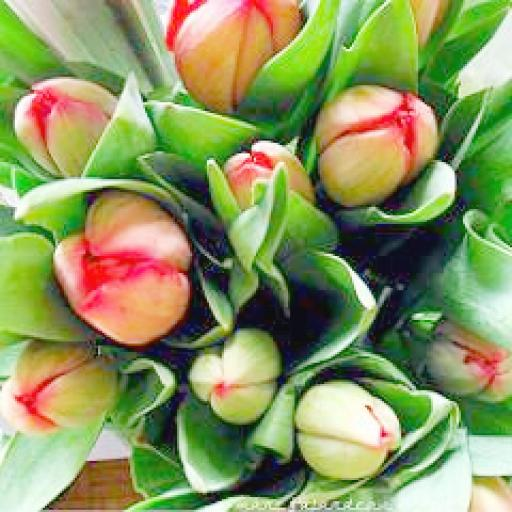tulip: (53, 194, 192, 341), (312, 85, 440, 207), (292, 376, 403, 482), (13, 70, 124, 173), (185, 333, 286, 420)
